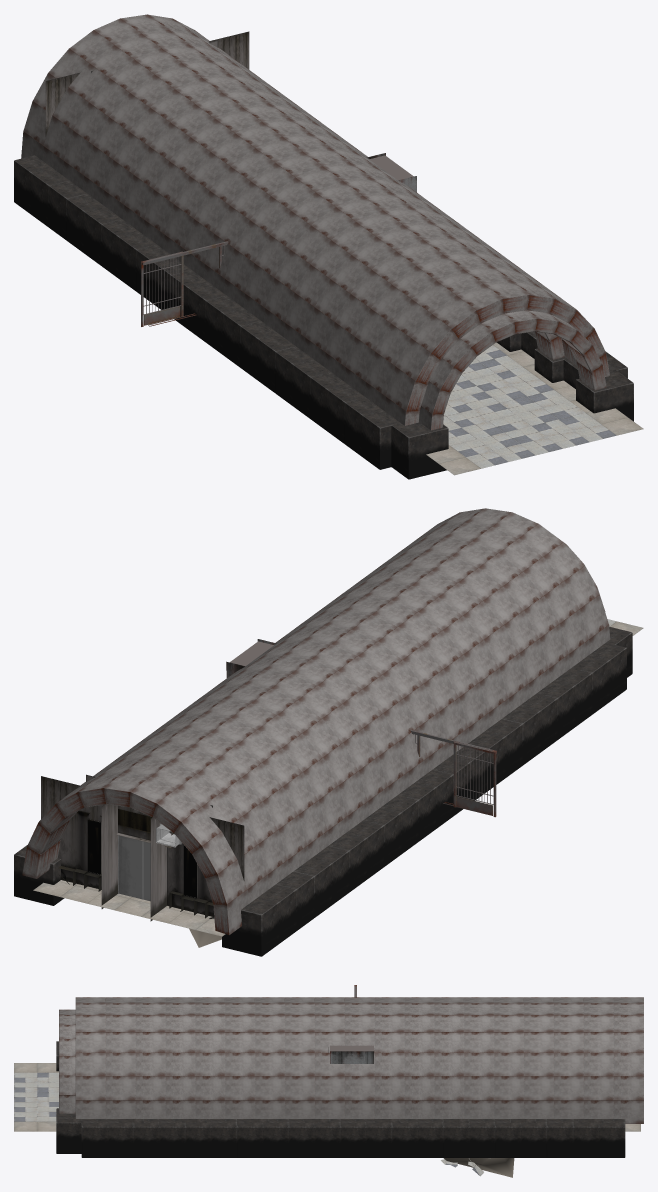
File: ALL Section 1.fbx
3 views of the same model, one above another, from view 1: azimuth 30°, elevation 25°; view 2: azimuth 150°, elevation 25°; view 3: azimuth 270°, elevation 25° (orthographic). The views are drawn at different scales.
Parts seen in each view (by area): view 1: LeakingWall2, secondwalls1, AllFloor, Fence2, RightSideUVAdjusted, TopTicketBooth; view 2: LeakingWall2, secondwalls1, RightSideUVAdjusted, AllFloor, Fence2, LiftDoors1, TopSideUVAdjusted, TopTicketBooth; view 3: LeakingWall2, secondwalls1, AllFloor, TopTicketBooth, SinkHoleAfter1.
Part boxes in pixels (left/top/right/bottom): LeakingWall2: left=21, top=14, right=609, bottom=430; secondwalls1: left=14, top=155, right=633, bottom=479; AllFloor: left=426, top=342, right=643, bottom=475; Fence2: left=141, top=241, right=228, bottom=326; RightSideUVAdjusted: left=45, top=31, right=249, bottom=136; TopTicketBooth: left=366, top=153, right=416, bottom=192; LeakingWall2: left=22, top=508, right=610, bottom=935; secondwalls1: left=14, top=627, right=632, bottom=956; RightSideUVAdjusted: left=41, top=776, right=244, bottom=921; AllFloor: left=33, top=619, right=643, bottom=936; Fence2: left=411, top=730, right=496, bottom=817; LiftDoors1: left=118, top=835, right=150, bottom=901; TopSideUVAdjusted: left=86, top=774, right=212, bottom=848; TopTicketBooth: left=226, top=639, right=276, bottom=677; LeakingWall2: left=59, top=997, right=643, bottom=1123; secondwalls1: left=56, top=1041, right=625, bottom=1157; AllFloor: left=14, top=1063, right=640, bottom=1131; TopTicketBooth: left=328, top=1045, right=373, bottom=1063; SinkHoleAfter1: left=443, top=1158, right=514, bottom=1177.
Bounding box in the file's own units: 1114 × 796 × 2713.
